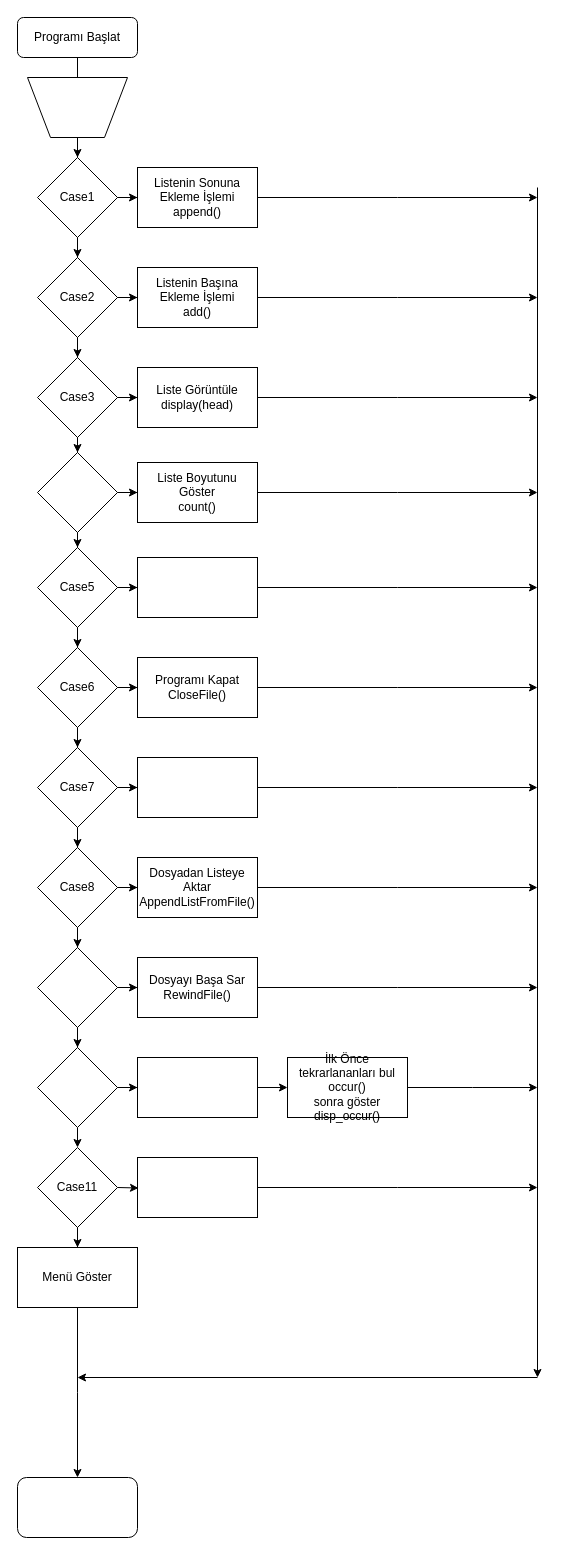
Image size: 563x1555. Some labels were removed from this diagram. Here are the shapes that lost their labels. From the top down, the centre of each, then its label:
At (x=77, y=107): "Menude Islem Sec".
At (x=77, y=492): "Case4".
At (x=197, y=587): "Node Silme delete()".
At (x=197, y=787): "Okunacak Dosyayı Aç OpenFileRead()".
At (x=77, y=987): "Case9".
At (x=77, y=1087): "Case10".
At (x=197, y=1087): "Tekrarlanan Kelimeler".
At (x=197, y=1187): "Dosyayı Kapat CloseFile()".
At (x=77, y=1507): "Programı Durdur".
